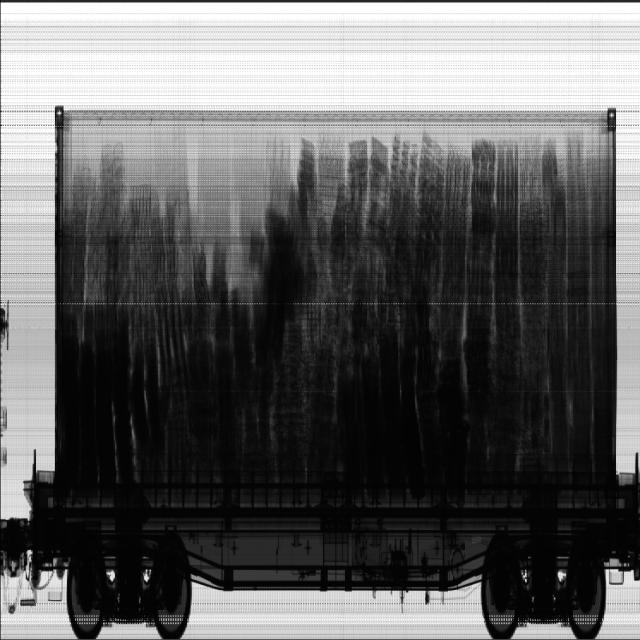clothes: (255, 182, 316, 319)
shoes: (543, 134, 617, 470)
